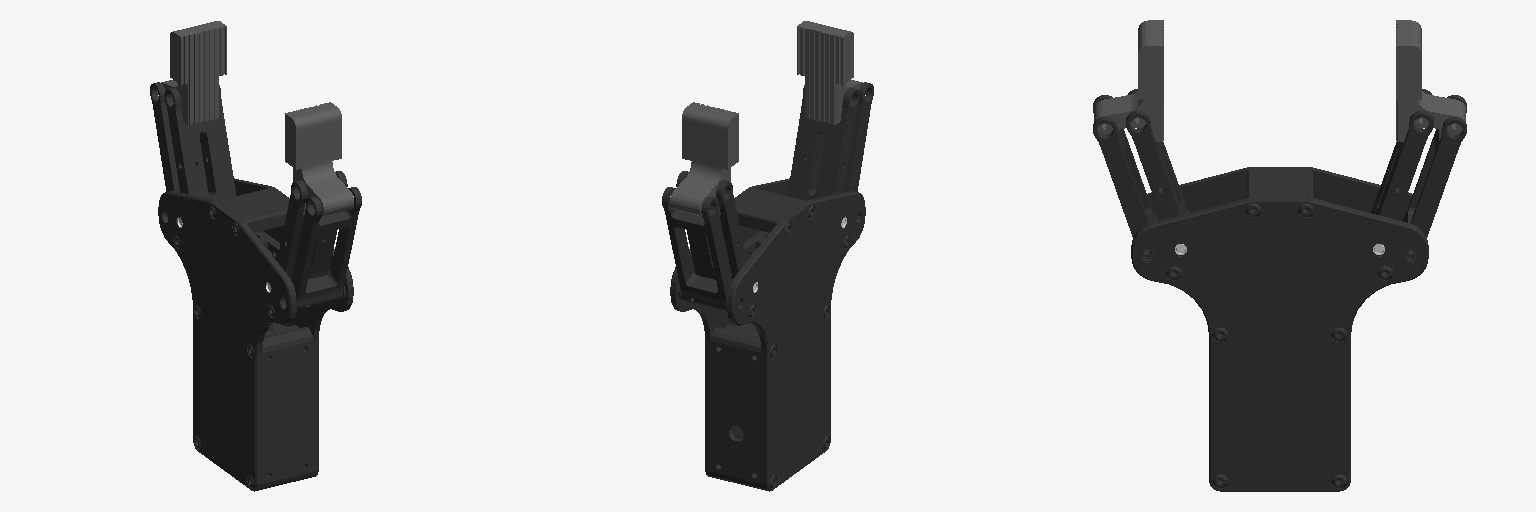
robot.urdf — 4C2:
<?xml version="1.0" encoding="utf-8"?>
<robot name="4C2">
  <link
    name="base_link">
    <inertial>
      <origin
        xyz="-0.00025 0.0005200000000000001 0.04618"
        rpy="0 0 0" />
      <mass
        value="0.17456" />
      <inertia
        ixx="0.00017385082"
        ixy="-7.1123e-07"
        ixz="1.59872e-06"
        iyy="0.00014821157"
        iyz="-5.41808e-06"
        izz="4.7929489999999995e-05" />
    </inertial>
    <visual>
      <origin
        xyz="0 0 0"
        rpy="0 0 0" />
      <geometry>
        <mesh
          filename="package://4C2/meshes/base_link.STL" />
      </geometry>
      <material
        name="">
        <color
          rgba="0.25 0.25 0.25 1" />
      </material>
    </visual>
    <collision>
      <origin
        xyz="0 0 0"
        rpy="0 0 0" />
      <geometry>
        <mesh
          filename="package://4C2/meshes/base_link.STL" />
      </geometry>
    </collision>
  </link>
  <link
    name="r_1">
    <inertial>
      <origin
        xyz="0.015880000000000002 0.00512 0.01252"
        rpy="0 0 0" />
      <mass
        value="0.00864" />
      <inertia
        ixx="6.1597e-07"
        ixy="-6.8471e-07"
        ixz="2.8500000000000003e-09"
        iyy="2.5165100000000002e-06"
        iyz="9.2e-10"
        izz="2.3915300000000003e-06" />
    </inertial>
    <visual>
      <origin
        xyz="0 0 0"
        rpy="0 0 0" />
      <geometry>
        <mesh
          filename="package://4C2/meshes/r_1.STL" />
      </geometry>
      <material
        name="">
        <color
          rgba="0.25 0.25 0.25 1" />
      </material>
    </visual>
    <collision>
      <origin
        xyz="0 0 0"
        rpy="0 0 0" />
      <geometry>
        <mesh
          filename="package://4C2/meshes/r_1.STL" />
      </geometry>
    </collision>
  </link>
  <joint
    name="gripper_joint"
    type="revolute">
    <origin
      xyz="-0.0125 0.04 0.079"
      rpy="3.1416 -1.5708 0" />
    <parent
      link="base_link" />
    <child
      link="r_1" />
    <axis
      xyz="0 0 1" />
    <limit
      lower="0"
      upper="0.865"
      effort="1"
      velocity="2" />
  </joint>
  <link
    name="r_3">
    <inertial>
      <origin
        xyz="0.00894 -0.01025 0.009"
        rpy="0 0 0" />
      <mass
        value="0.00967" />
      <inertia
        ixx="4.7741e-07"
        ixy="2.7354e-07"
        ixz="-0.0"
        iyy="1.01048e-06"
        iyz="-0.0"
        izz="1.13484e-06" />
    </inertial>
    <visual>
      <origin
        xyz="0 0 0"
        rpy="0 0 0" />
      <geometry>
        <mesh
          filename="package://4C2/meshes/r_3.STL" />
      </geometry>
      <material
        name="">
        <color
          rgba="0.4 0.4 0.4 1" />
      </material>
    </visual>
    <collision>
      <origin
        xyz="0 0 0"
        rpy="0 0 0" />
      <geometry>
        <mesh
          filename="package://4C2/meshes/r_3.STL" />
      </geometry>
    </collision>
  </link>
  <joint
    name="r_3_joint"
    type="revolute">
    <origin
      xyz="0.03997 -0.0129 0.0035"
      rpy="0 0 0" />
    <parent
      link="r_1" />
    <child
      link="r_3" />
    <axis
      xyz="0 0 -1" />
    <limit
      lower="0"
      upper="1"
      effort="1"
      velocity="2" />
    <mimic
        joint="gripper_joint"
        multiplier="1"
        offset="0" />
  </joint>
  <link
    name="l_1">
    <inertial>
      <origin
        xyz="0.015880000000000002 -0.00512 0.01249"
        rpy="0 0 0" />
      <mass
        value="0.00864" />
      <inertia
        ixx="6.1597e-07"
        ixy="6.8471e-07"
        ixz="-8.4e-10"
        iyy="2.5165100000000002e-06"
        iyz="2.7e-10"
        izz="2.3915300000000003e-06" />
    </inertial>
    <visual>
      <origin
        xyz="0 0 0"
        rpy="0 0 0" />
      <geometry>
        <mesh
          filename="package://4C2/meshes/l_1.STL" />
      </geometry>
      <material
        name="">
        <color
          rgba="0.25 0.25 0.25 1" />
      </material>
    </visual>
    <collision>
      <origin
        xyz="0 0 0"
        rpy="0 0 0" />
      <geometry>
        <mesh
          filename="package://4C2/meshes/l_1.STL" />
      </geometry>
    </collision>
  </link>
  <joint
    name="l_1_joint"
    type="revolute">
    <origin
      xyz="-0.0125 -0.04 0.079"
      rpy="3.1416 -1.5708 0" />
    <parent
      link="base_link" />
    <child
      link="l_1" />
    <axis
      xyz="0 0 -1" />
    <limit
      lower="0"
      upper="1"
      effort="1"
      velocity="2" />
    <mimic
        joint="gripper_joint"
        multiplier="1"
        offset="0" />
  </joint>
  <link
    name="l_3">
    <inertial>
      <origin
        xyz="0.00894 0.01025 0.009"
        rpy="0 0 0" />
      <mass
        value="0.00967" />
      <inertia
        ixx="4.7741e-07"
        ixy="-2.7354e-07"
        ixz="-0.0"
        iyy="1.01048e-06"
        iyz="-0.0"
        izz="1.13484e-06" />
    </inertial>
    <visual>
      <origin
        xyz="0 0 0"
        rpy="0 0 0" />
      <geometry>
        <mesh
          filename="package://4C2/meshes/l_3.STL" />
      </geometry>
      <material
        name="">
        <color
          rgba="0.4 0.4 0.4 1" />
      </material>
    </visual>
    <collision>
      <origin
        xyz="0 0 0"
        rpy="0 0 0" />
      <geometry>
        <mesh
          filename="package://4C2/meshes/l_3.STL" />
      </geometry>
    </collision>
  </link>
  <joint
    name="l_3_joint"
    type="revolute">
    <origin
      xyz="0.03997 0.0129 0.0035"
      rpy="0 0 0" />
    <parent
      link="l_1" />
    <child
      link="l_3" />
    <axis
      xyz="0 0 1" />
    <limit
      lower="0"
      upper="1"
      effort="1"
      velocity="2" />
    <mimic
        joint="gripper_joint"
        multiplier="1"
        offset="0" />
  </joint>
  <link
    name="r_2_base">
    <inertial>
      <origin
        xyz="1.80411241501588E-16 -1.38777878078145E-17 0.0124577241215472"
        rpy="0 0 0" />
      <mass
        value="0.000523674592701008" />
      <inertia
        ixx="3.07347148157248E-08"
        ixy="2.19812746469581E-26"
        ixz="-1.61003603633463E-23"
        iyy="3.07347148157248E-08"
        iyz="-1.75942006429497E-23"
        izz="7.12500693959128E-10" />
    </inertial>
    <visual>
      <origin
        xyz="0 0 0"
        rpy="0 0 0" />
      <geometry>
        <mesh
          filename="package://4C2/meshes/r_2_base.STL" />
      </geometry>
      <material
        name="">
        <color
          rgba="0.898039215686275 0.917647058823529 0.929411764705882 1" />
      </material>
    </visual>
    <collision>
      <origin
        xyz="0 0 0"
        rpy="0 0 0" />
      <geometry>
        <mesh
          filename="package://4C2/meshes/r_2_base.STL" />
      </geometry>
    </collision>
  </link>
  <joint
    name="r_2_base_joint"
    type="fixed">
    <origin
      xyz="-0.0125 0.03 0.081"
      rpy="3.1416 -1.5708 0" />
    <parent
      link="base_link" />
    <child
      link="r_2_base" />
    <axis
      xyz="0 0 1" />
  </joint>
  <link
    name="r_2">
    <inertial>
      <origin
        xyz="0.01758 0.005679999999999999 0.01248"
        rpy="0 0 0" />
      <mass
        value="0.01199" />
      <inertia
        ixx="6.1843e-07"
        ixy="-6.0251e-07"
        ixz="-1.99e-09"
        iyy="2.2908200000000003e-06"
        iyz="-6.400000000000001e-10"
        izz="2.13501e-06" />
    </inertial>
    <visual>
      <origin
        xyz="0 0 0"
        rpy="0 0 0" />
      <geometry>
        <mesh
          filename="package://4C2/meshes/r_2.STL" />
      </geometry>
      <material
        name="">
        <color
          rgba="0.25 0.25 0.25 1" />
      </material>
    </visual>
    <collision>
      <origin
        xyz="0 0 0"
        rpy="0 0 0" />
      <geometry>
        <mesh
          filename="package://4C2/meshes/r_2.STL" />
      </geometry>
    </collision>
  </link>
  <joint
    name="r_2_joint"
    type="revolute">
    <origin
      xyz="0 0 0"
      rpy="0 0 0" />
    <parent
      link="r_2_base" />
    <child
      link="r_2" />
    <axis
      xyz="0 0 1" />
    <limit
      lower="0"
      upper="1"
      effort="1"
      velocity="2" />
    <mimic
        joint="gripper_joint"
        multiplier="1"
        offset="0" />
  </joint>
  <link
    name="l_2_base">
    <inertial>
      <origin
        xyz="4.9960036108132E-16 6.48786580015326E-16 0.012531825941704"
        rpy="0 0 0" />
      <mass
        value="0.000523674592701011" />
      <inertia
        ixx="3.0734714815725E-08"
        ixy="-3.98073805558355E-27"
        ixz="-1.82481294203138E-23"
        iyy="3.0734714815725E-08"
        iyz="1.84719820823576E-24"
        izz="7.12500693959128E-10" />
    </inertial>
    <visual>
      <origin
        xyz="0 0 0"
        rpy="0 0 0" />
      <geometry>
        <mesh
          filename="package://4C2/meshes/l_2_base.STL" />
      </geometry>
      <material
        name="">
        <color
          rgba="0.898039215686275 0.917647058823529 0.929411764705882 1" />
      </material>
    </visual>
    <collision>
      <origin
        xyz="0 0 0"
        rpy="0 0 0" />
      <geometry>
        <mesh
          filename="package://4C2/meshes/l_2_base.STL" />
      </geometry>
    </collision>
  </link>
  <joint
    name="l_2_base_joint"
    type="fixed">
    <origin
      xyz="-0.012574 -0.03 0.081"
      rpy="3.1416 -1.5708 0" />
    <parent
      link="base_link" />
    <child
      link="l_2_base" />
    <axis
      xyz="0 0 1" />
  </joint>
  <link
    name="l_2">
    <inertial>
      <origin
        xyz="0.01758 -0.005679999999999999 0.01252"
        rpy="0 0 0" />
      <mass
        value="0.01199" />
      <inertia
        ixx="6.1843e-07"
        ixy="6.0251e-07"
        ixz="1.99e-09"
        iyy="2.2908200000000003e-06"
        iyz="-6.400000000000001e-10"
        izz="2.13501e-06" />
    </inertial>
    <visual>
      <origin
        xyz="0 0 0"
        rpy="0 0 0" />
      <geometry>
        <mesh
          filename="package://4C2/meshes/l_2.STL" />
      </geometry>
      <material
        name="">
        <color
          rgba="0.25 0.25 0.25 1" />
      </material>
    </visual>
    <collision>
      <origin
        xyz="0 0 0"
        rpy="0 0 0" />
      <geometry>
        <mesh
          filename="package://4C2/meshes/l_2.STL" />
      </geometry>
    </collision>
  </link>
  <joint
    name="l_2_joint"
    type="revolute">
    <origin
      xyz="0 0 0"
      rpy="0 0 0" />
    <parent
      link="l_2_base" />
    <child
      link="l_2" />
    <axis
      xyz="0 0 -1" />
    <limit
      lower="0"
      upper="1"
      effort="1"
      velocity="2" />
    <mimic
        joint="gripper_joint"
        multiplier="1"
        offset="0" />
  </joint>
  <gazebo reference="base_link">
    <material>Gazebo/DarkGrey</material>
  </gazebo>
  
  <gazebo reference="r_1">
    <material>Gazebo/DarkGrey</material>
  </gazebo>
  
  <gazebo reference="r_2_base">
    <material>Gazebo/White</material>
  </gazebo>
  
  <gazebo reference="r_2">
    <material>Gazebo/DarkGrey</material>
  </gazebo>
  
  <gazebo reference="r_3">
    <material>Gazebo/Grey</material>
  </gazebo>
  
  <gazebo reference="l_1">
    <material>Gazebo/DarkGrey</material>
  </gazebo>
  
  <gazebo reference="l_2_base">
    <material>Gazebo/White</material>
  </gazebo>
  
  <gazebo reference="l_2">
    <material>Gazebo/DarkGrey</material>
  </gazebo>
  
  <gazebo reference="l_3">
    <material>Gazebo/Grey</material>
  </gazebo>
</robot>

--- Render facts (derived) ---
The picture shows the robot from 3 angles, left to right: view 1: azimuth 30°, elevation 25°; view 2: azimuth 150°, elevation 25°; view 3: azimuth 270°, elevation 25°; orthographic projection.
Robot: 4C2 — 9 links, 8 joints (6 revolute, 2 fixed); root link base_link; default pose: every joint at zero.
Links seen in each view (by area): view 1: base_link, l_3, r_2, r_3, l_1, l_2, r_1; view 2: base_link, r_3, l_2, l_3, r_1, r_2, l_1; view 3: base_link, l_3, r_3, r_1, l_1, r_2, l_2.
Boxes of the visible links, left/top/right/bottom form: base_link: left=158, top=178, right=353, bottom=491; l_3: left=285, top=102, right=353, bottom=215; r_2: left=164, top=85, right=236, bottom=200; r_3: left=158, top=21, right=226, bottom=124; l_1: left=291, top=187, right=361, bottom=311; l_2: left=277, top=171, right=347, bottom=279; r_1: left=150, top=82, right=179, bottom=191; base_link: left=670, top=178, right=865, bottom=491; r_3: left=670, top=102, right=738, bottom=215; l_2: left=787, top=85, right=859, bottom=200; l_3: left=797, top=21, right=862, bottom=124; r_1: left=662, top=187, right=732, bottom=311; r_2: left=676, top=171, right=746, bottom=279; l_1: left=844, top=82, right=873, bottom=191; base_link: left=1131, top=167, right=1428, bottom=491; l_3: left=1094, top=20, right=1163, bottom=141; r_3: left=1396, top=20, right=1465, bottom=141; r_1: left=1401, top=95, right=1466, bottom=256; l_1: left=1093, top=95, right=1158, bottom=256; r_2: left=1370, top=89, right=1433, bottom=219; l_2: left=1126, top=89, right=1189, bottom=219.
Bounding box of the posed robot: 0.0255 × 0.1133 × 0.1475 m (x, y, z).
Meshes: 9 distinct files referenced, 9 mesh visuals loaded (9 binary STL).
